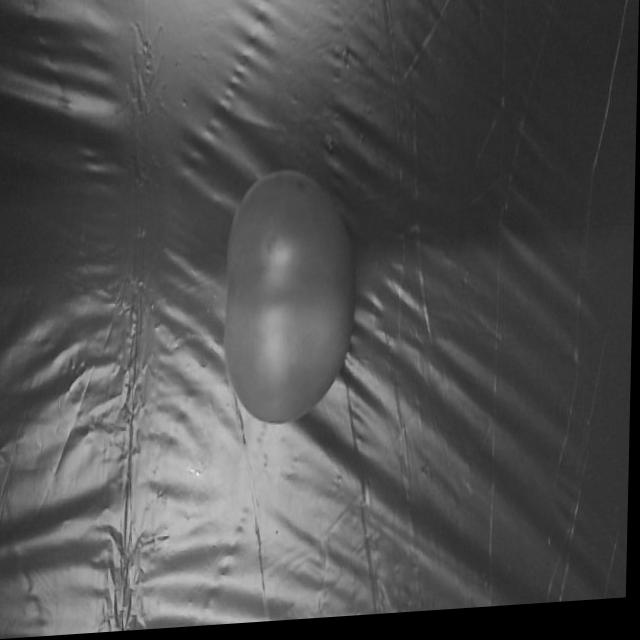sari: (203, 148, 366, 453)
